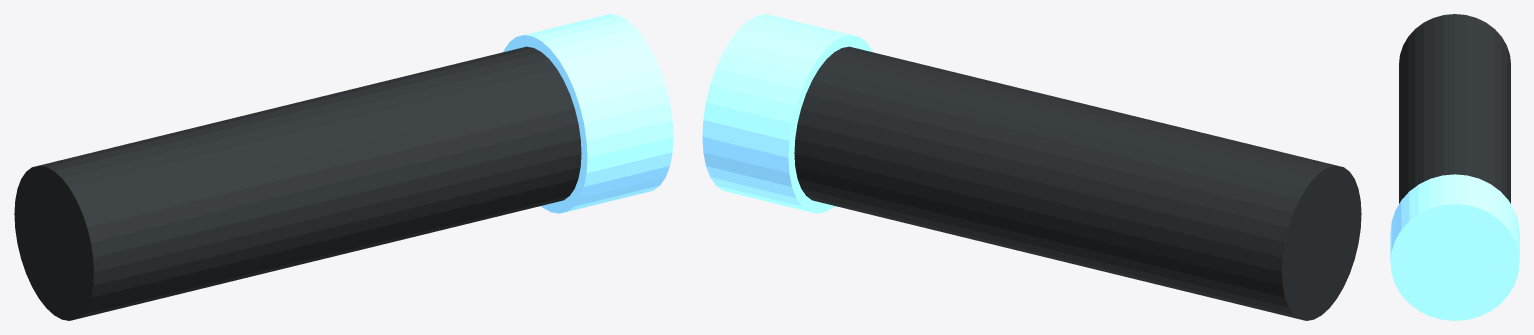
Rendered from P023-blockout-v1.glb.
3 views of the same model, side by side, from view 1: azimuth 30°, elevation 25°; view 2: azimuth 150°, elevation 25°; view 3: azimuth 270°, elevation 25° (orthographic). The views are drawn at different scales.
Visible parts, largest first — view 1: 筒身, 燈頭; view 2: 筒身, 燈頭; view 3: 筒身, 燈頭.
Boxes of the visible parts, x1,y1,x2,y2 form: 筒身: [14, 46, 581, 320]; 燈頭: [503, 14, 673, 213]; 筒身: [794, 46, 1361, 320]; 燈頭: [702, 14, 872, 213]; 筒身: [1399, 14, 1510, 203]; 燈頭: [1390, 174, 1519, 320].
Size of the model in its own units: 0.25 by 0.069 by 0.069.
